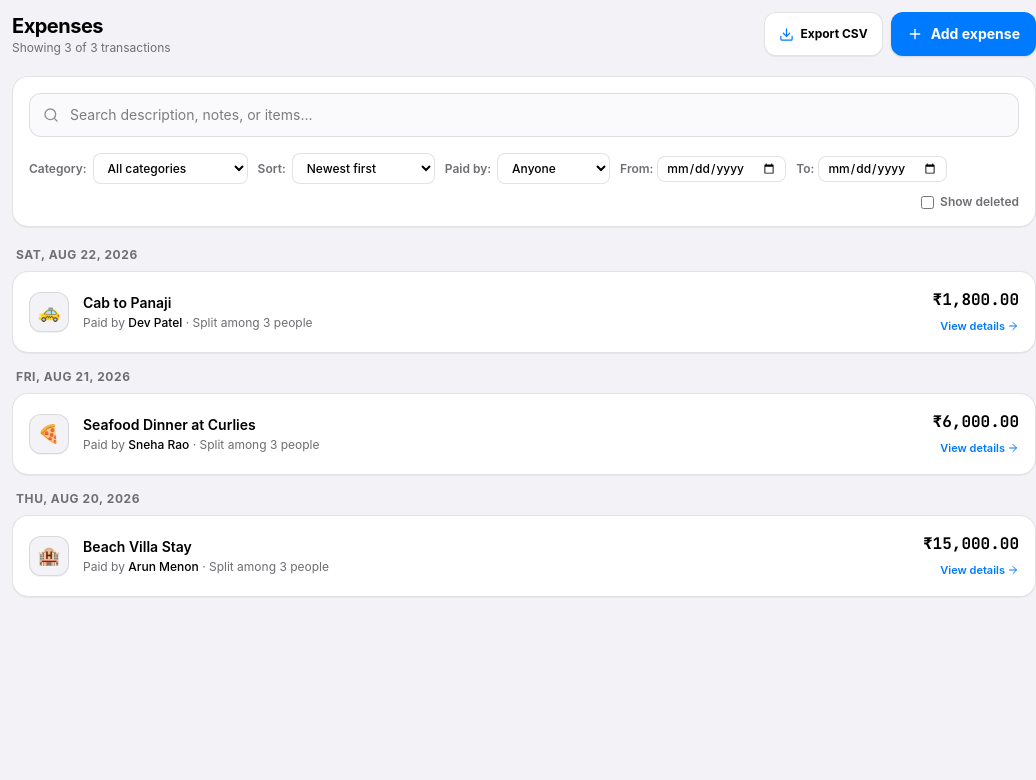
Test: Empirical Challenge Suite: Milestone 2 Feature Screens & Micro-interactions › ExpensesPage Filtering, Search & Micro-interactions › shows soft-deleted expenses with badge when owner checks 'Show deleted'
The image size is (1036, 780).
What coordinates should you click on to do the following:
click the checkbox labelled "Show deleted"
I would click on:
 (928, 202)
Its box is [921,196,934,208].
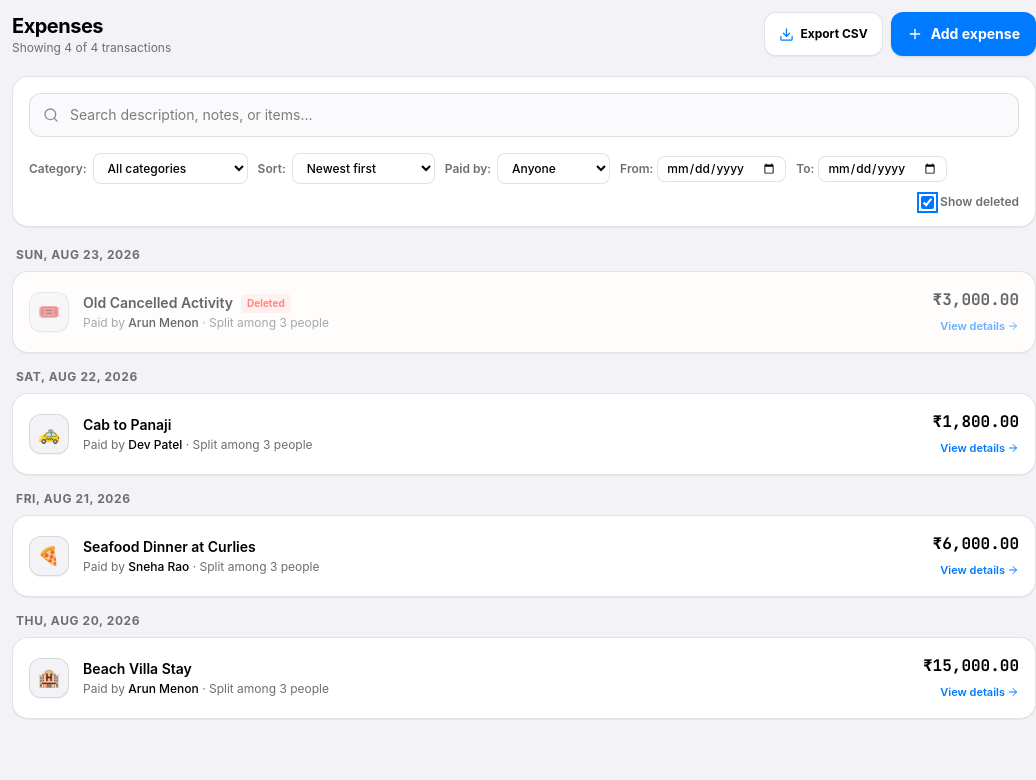
Now the text "Old Cancelled Activity" is shown, box [83,293,233,313]
Now the text "Deleted" is shown, box [241,294,291,312]
